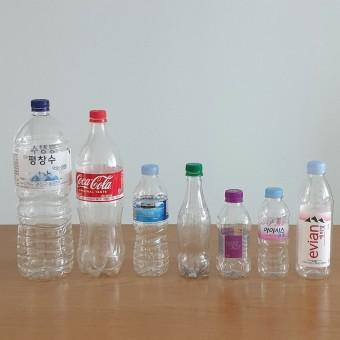bottle: (0, 100, 23, 278), (92, 110, 109, 277), (148, 163, 151, 276), (313, 160, 315, 277), (234, 189, 236, 278)
